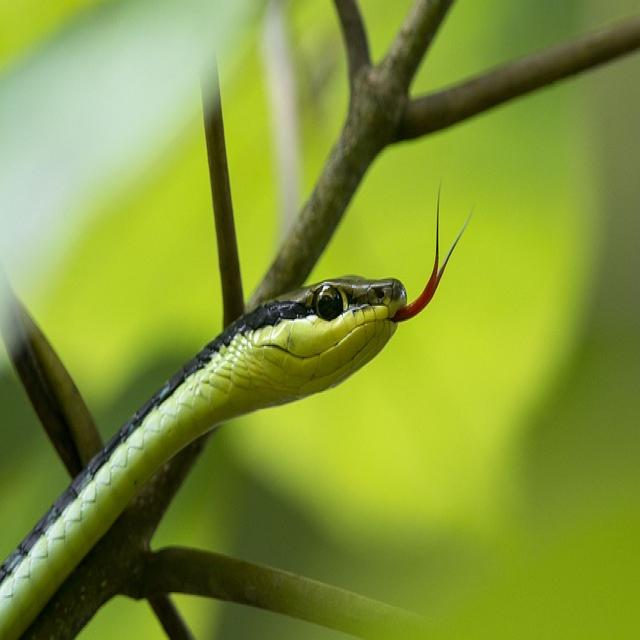Carnivorous: (0, 280, 403, 640)
